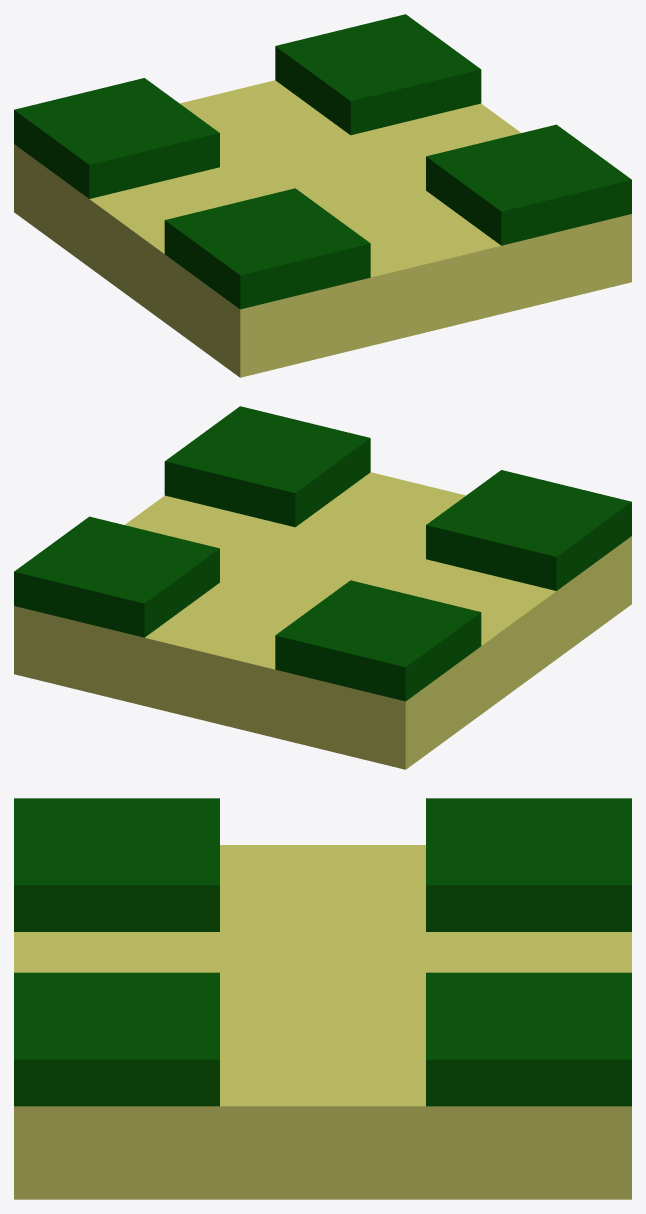
File: StraightLeftRight.fbx
3 views of the same model, one above another, from view 1: azimuth 30°, elevation 25°; view 2: azimuth 150°, elevation 25°; view 3: azimuth 270°, elevation 25° (orthographic). The views are drawn at different scales.
Parts seen in each view (by area): view 1: Cube; view 2: Cube; view 3: Cube.
Part boxes in pixels (left/top/right/bottom): Cube: left=14, top=14, right=631, bottom=377; Cube: left=14, top=406, right=631, bottom=769; Cube: left=14, top=798, right=631, bottom=1199.
Size of the model in its own units: 1200 by 300 by 1200.
